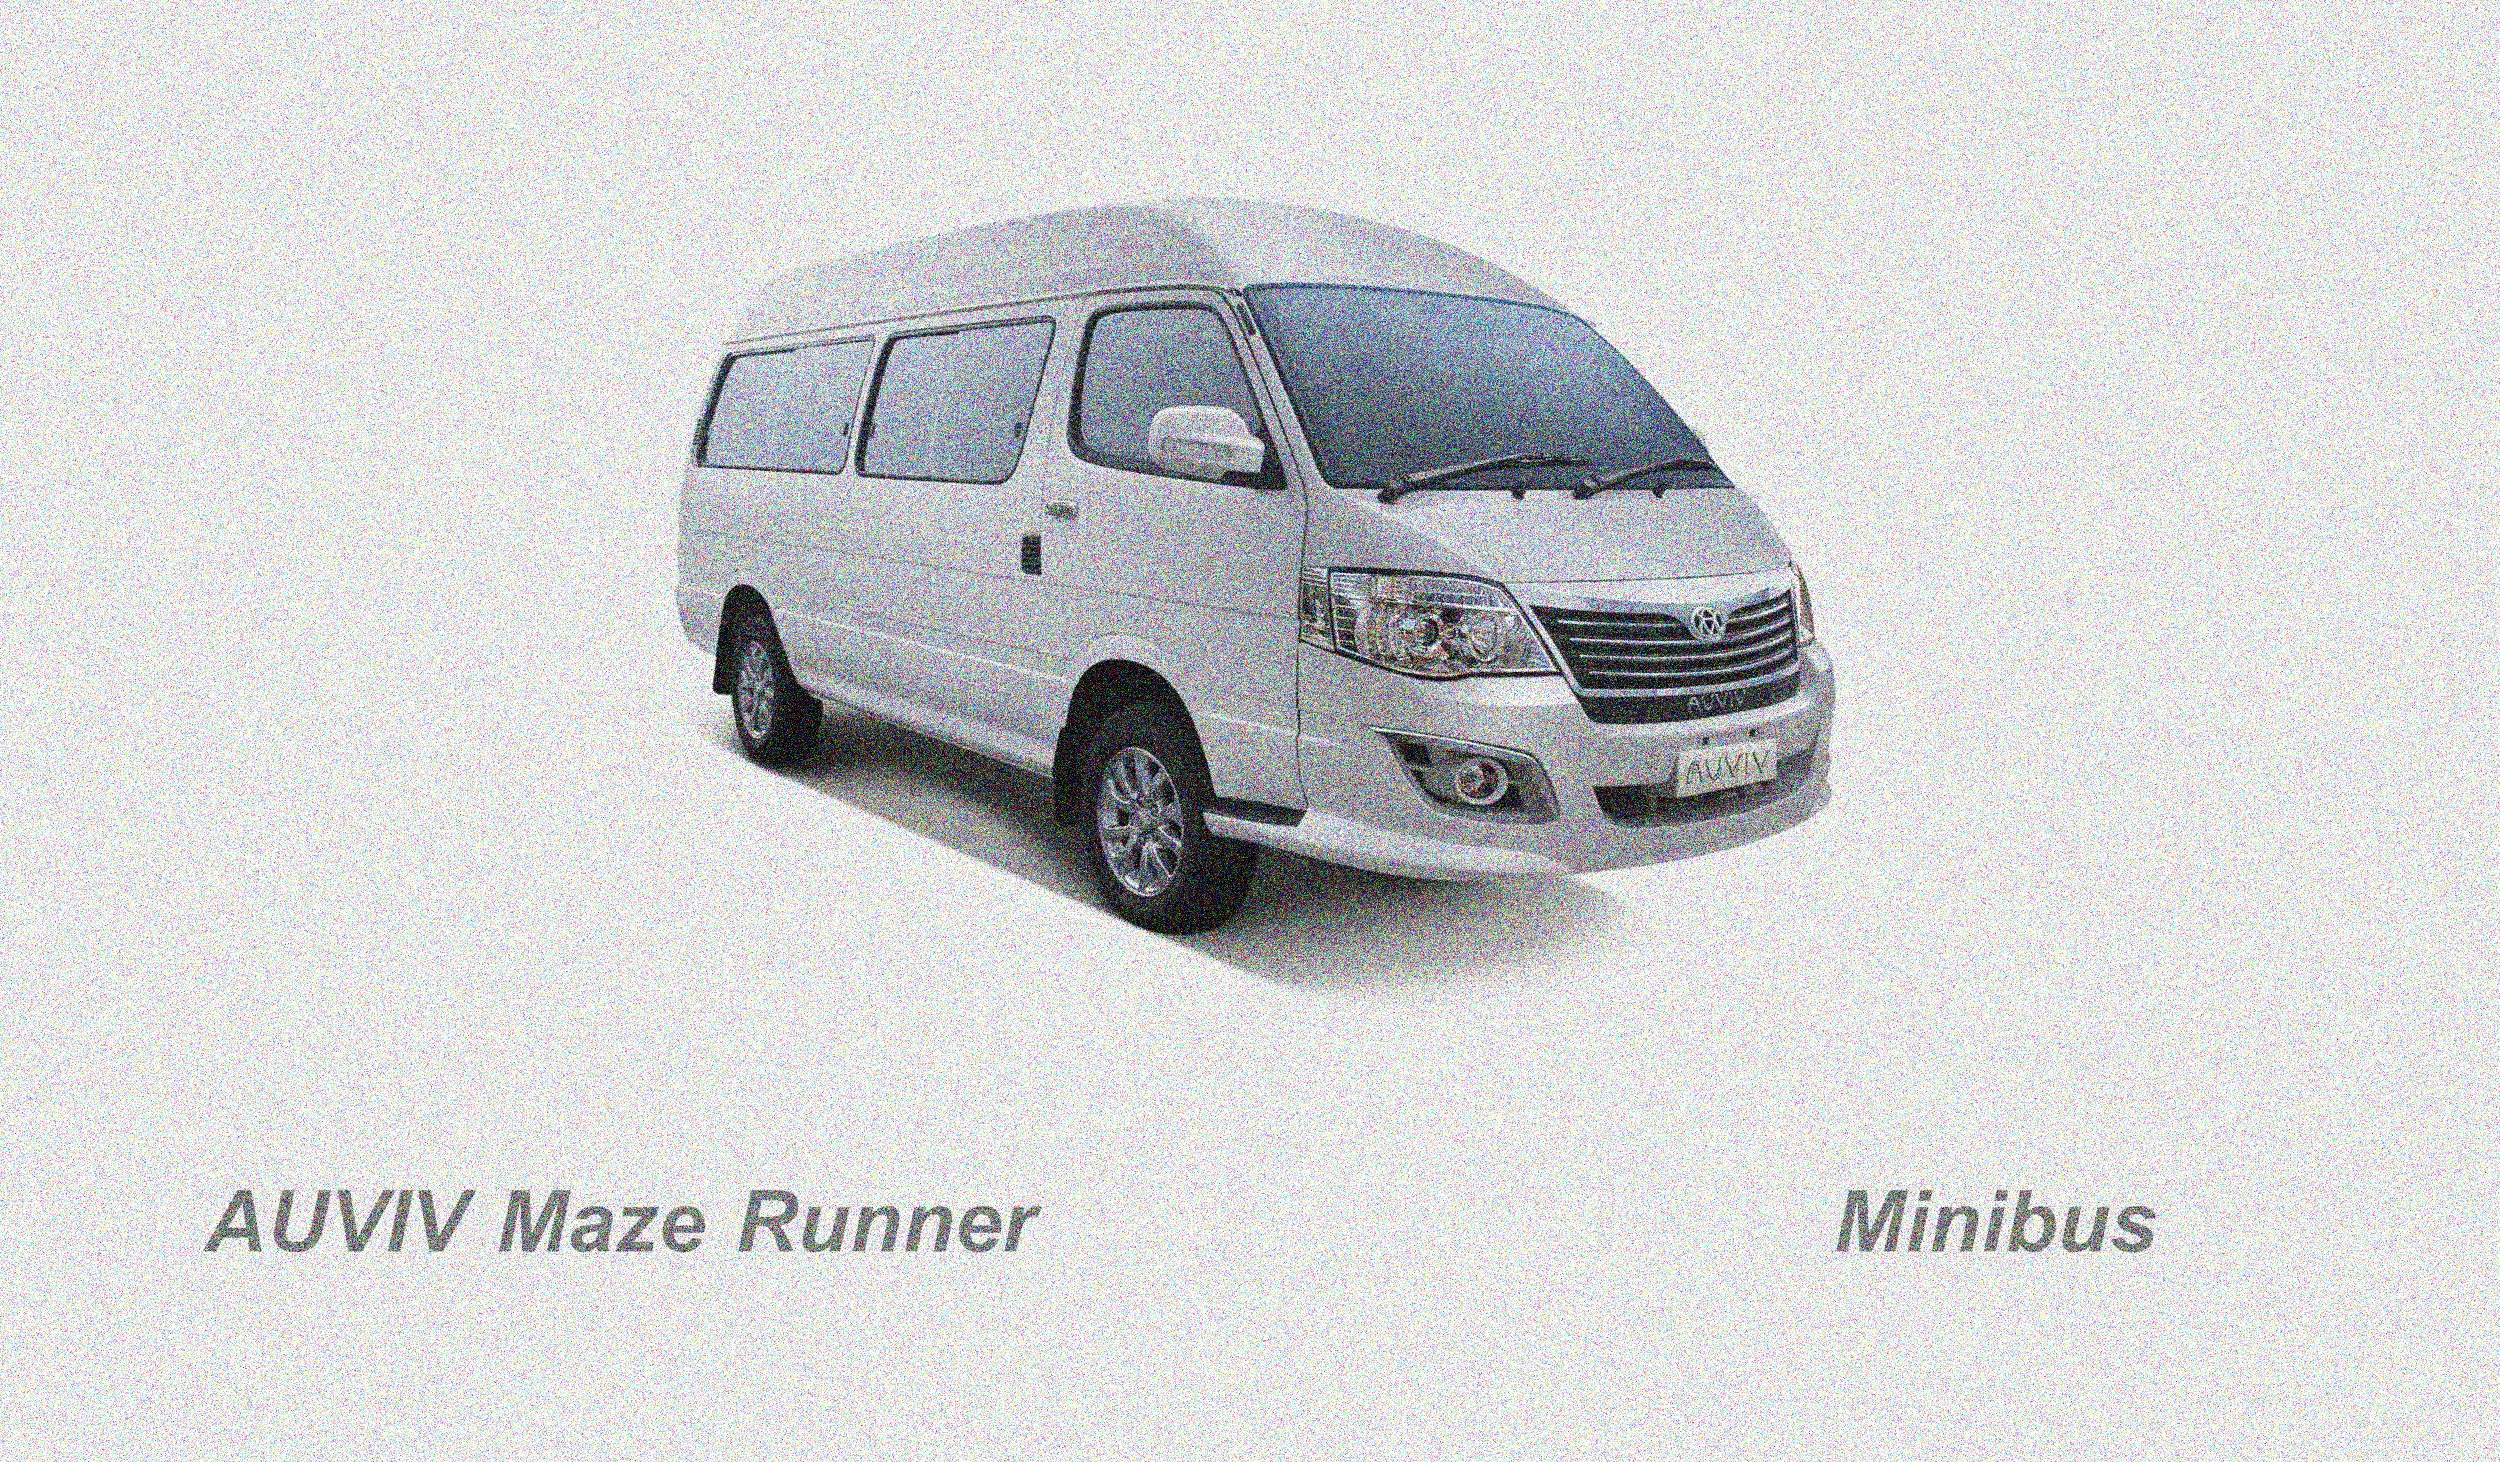van: (652, 115, 1875, 969)
